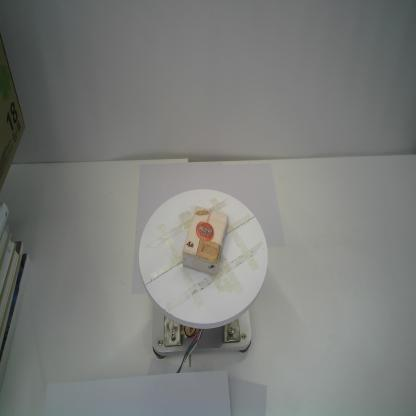Tissue: (182, 206, 230, 276)
